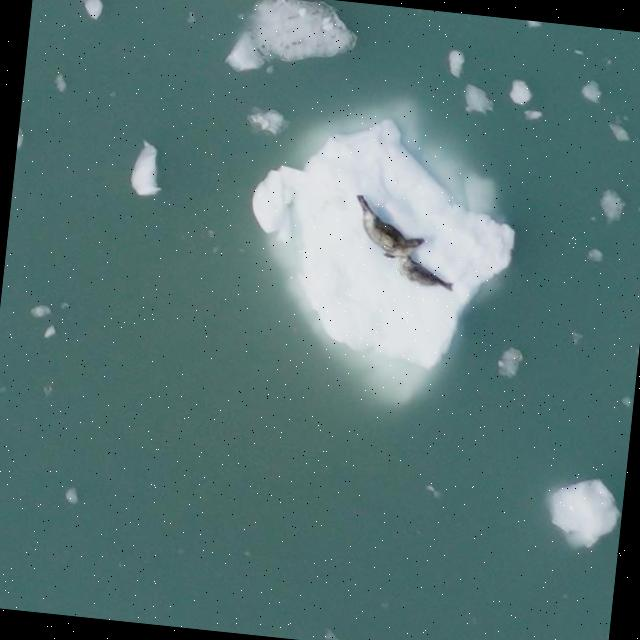seal: (336, 194, 426, 273), (391, 252, 455, 306)
